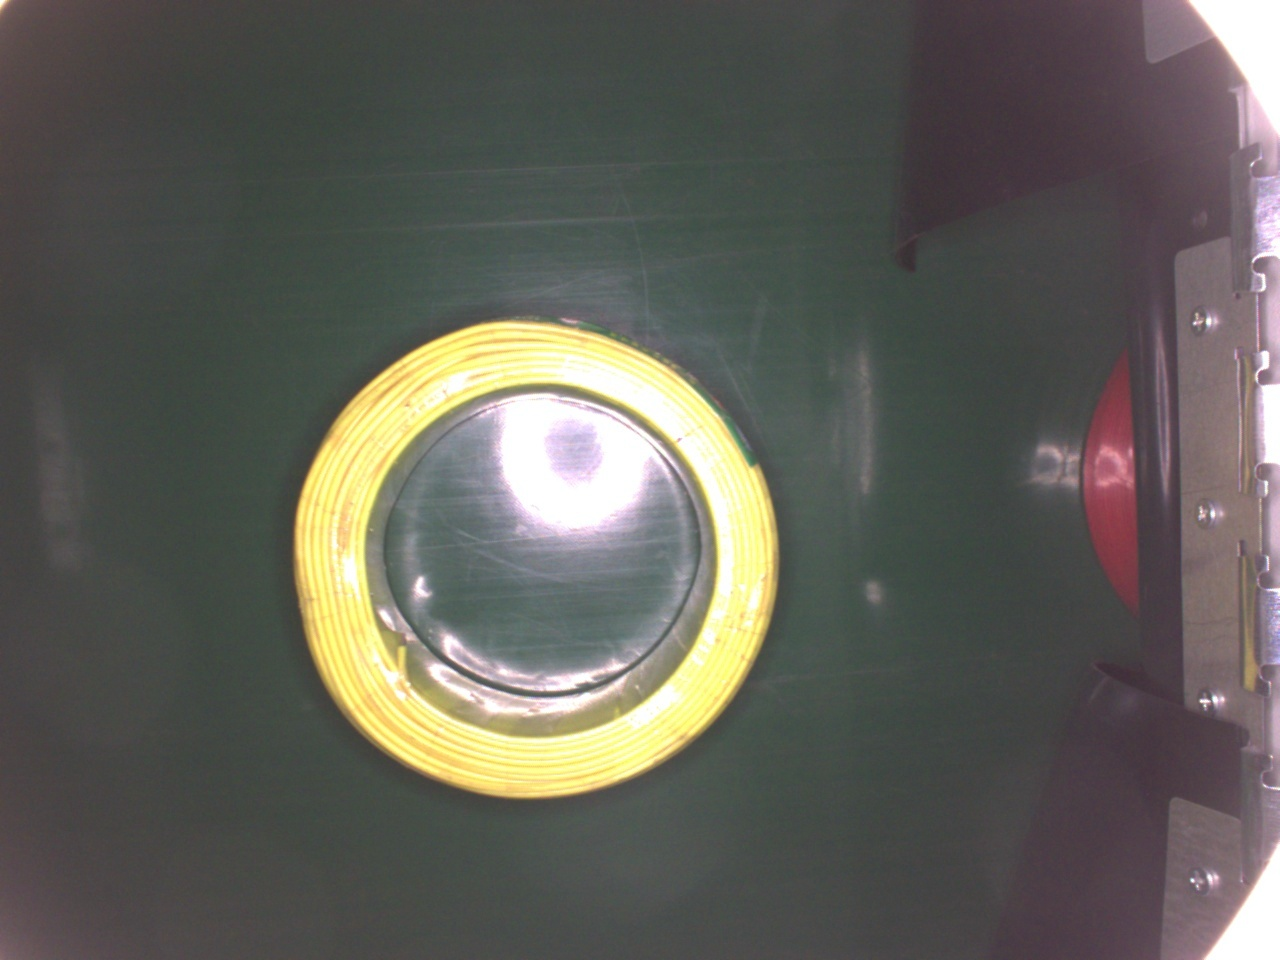yellow: (294, 306, 780, 800)
